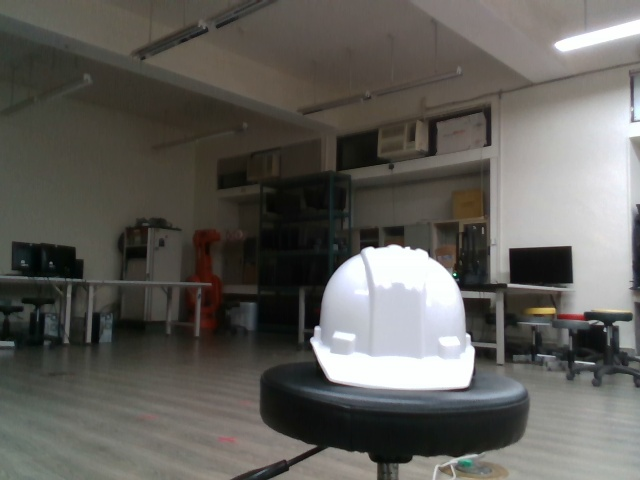helmet: (304, 242, 478, 393)
